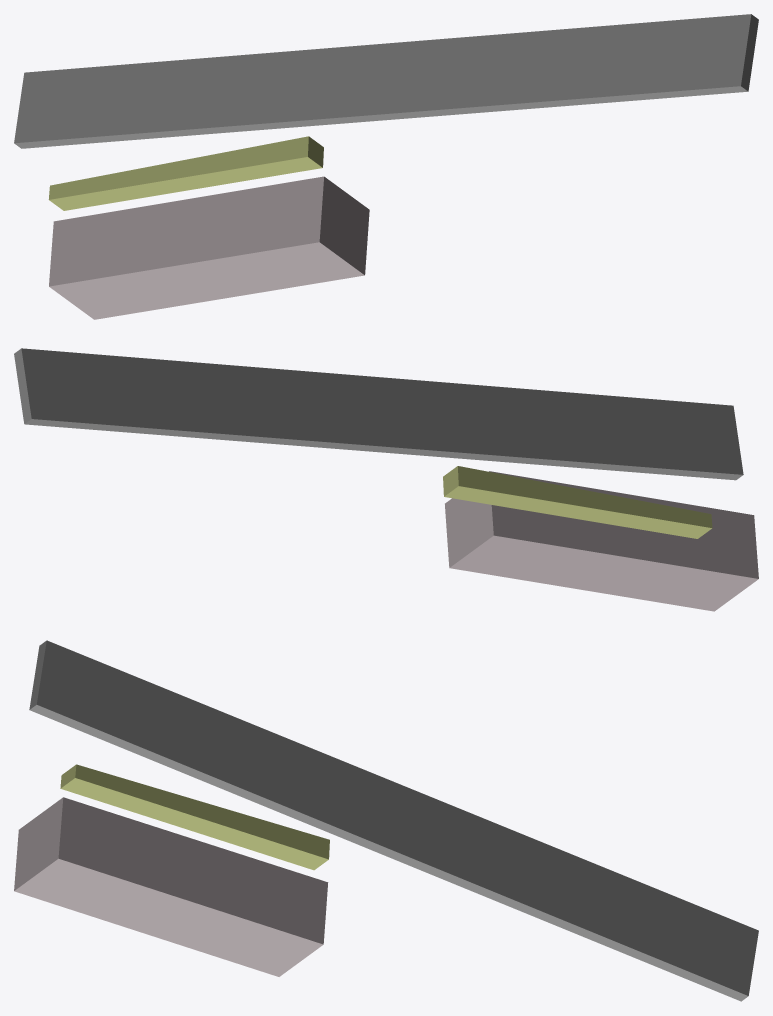
3 views of the same model, one above another, from view 1: azimuth 30°, elevation 25°; view 2: azimuth 150°, elevation 25°; view 3: azimuth 330°, elevation 25° (orthographic). The views are drawn at different scales.
Visible parts, largest first — view 1: 0_3_0_2_1_2_2; view 2: 0_3_0_2_1_2_2; view 3: 0_3_0_2_1_2_2.
Boxes of the visible parts, box(x1,y1,x2,y2) form: 0_3_0_2_1_2_2: box(14, 14, 758, 319); 0_3_0_2_1_2_2: box(14, 348, 758, 611); 0_3_0_2_1_2_2: box(14, 640, 758, 1001).
Bounding box in the file's own units: 169 × 51.43 × 21.4.
